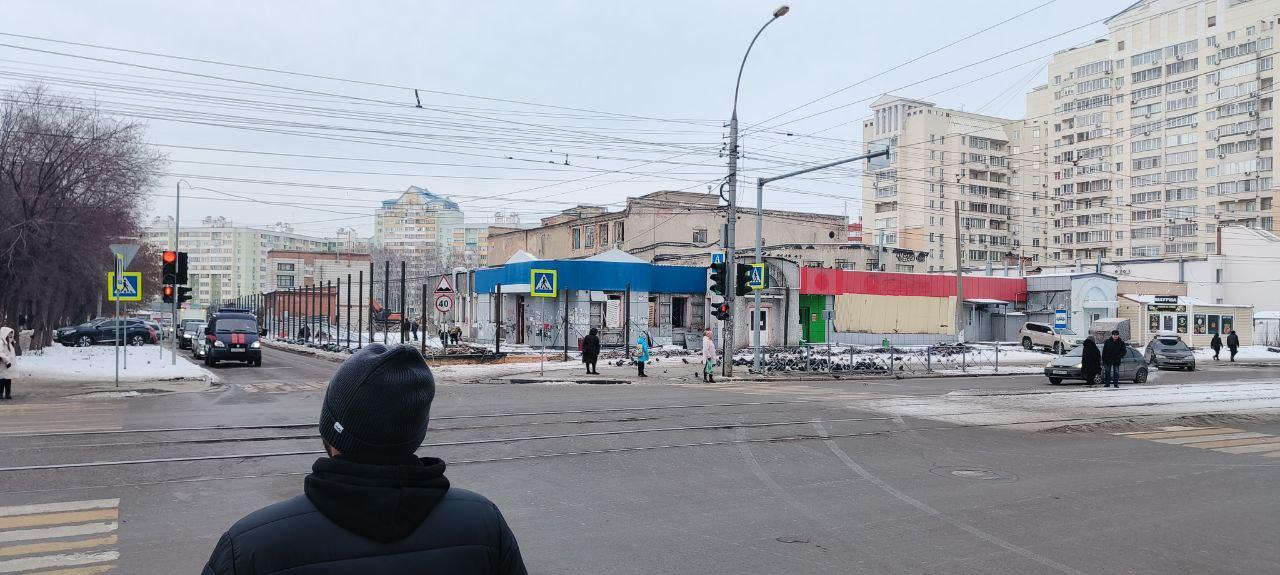obstructed_road_sign: (108, 271, 142, 301), (746, 262, 764, 289)
off traffic light: (736, 264, 753, 296), (177, 288, 192, 304)
road_sign: (531, 270, 556, 296), (433, 273, 456, 294), (435, 295, 453, 313), (1055, 310, 1068, 330)
traffic light: (162, 251, 177, 285), (710, 262, 725, 295), (719, 303, 730, 320), (163, 286, 173, 304)
